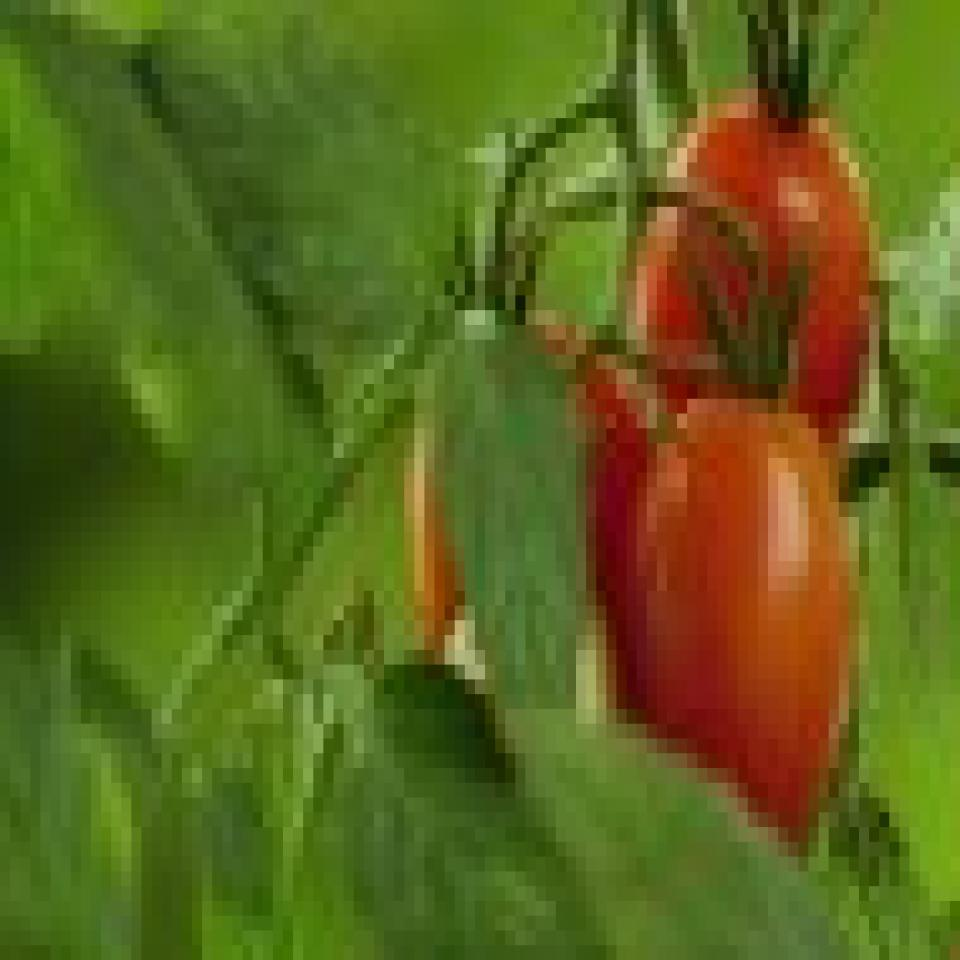Healthy: (610, 365, 850, 844), (406, 285, 642, 731), (646, 78, 892, 471)
